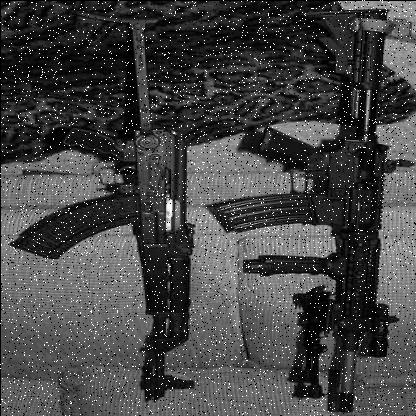rifle: (1, 1, 220, 411), (205, 1, 403, 413)
